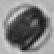correct: (3, 2, 51, 52)
